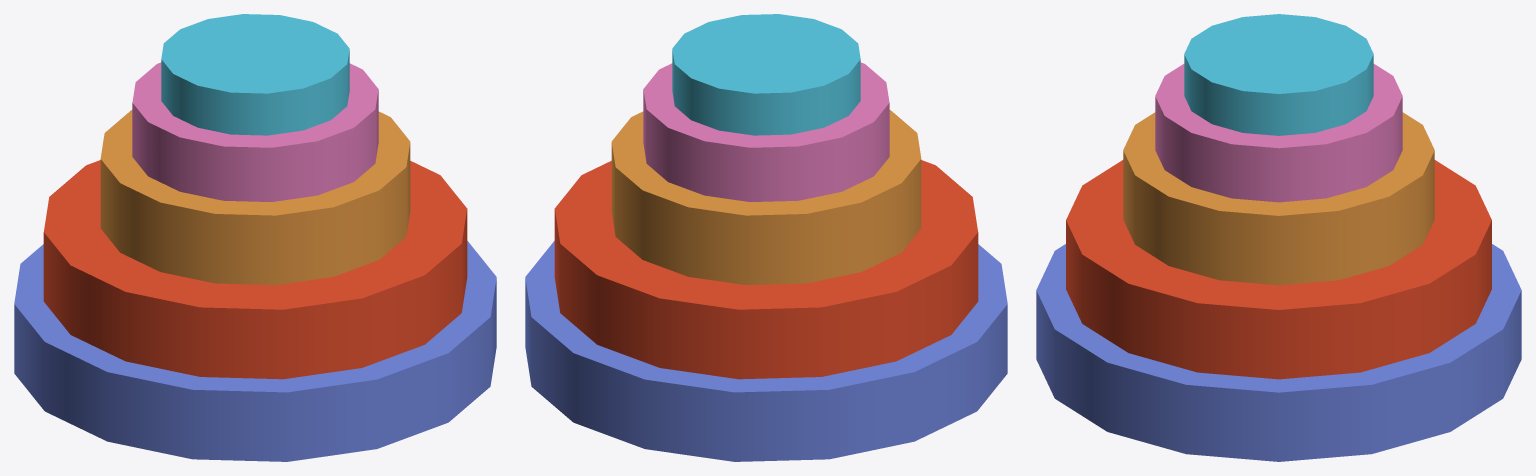
File: Pie.fbx
3 views of the same model, side by side, from view 1: azimuth 30°, elevation 25°; view 2: azimuth 150°, elevation 25°; view 3: azimuth 270°, elevation 25° (orthographic).
Visible parts, largest first — view 1: Cylinder.001, Cylinder, Cylinder.002, Cylinder.004, Cylinder.003; view 2: Cylinder.001, Cylinder, Cylinder.002, Cylinder.004, Cylinder.003; view 3: Cylinder.001, Cylinder, Cylinder.002, Cylinder.004, Cylinder.003.
Boxes of the visible parts, <box> form: Cylinder.001: <box>43,160,467,379</box>; Cylinder: <box>14,241,496,461</box>; Cylinder.002: <box>100,110,410,284</box>; Cylinder.004: <box>161,14,349,135</box>; Cylinder.003: <box>132,62,378,201</box>; Cylinder.001: <box>554,160,978,379</box>; Cylinder: <box>525,241,1007,461</box>; Cylinder.002: <box>611,110,921,284</box>; Cylinder.004: <box>672,14,860,135</box>; Cylinder.003: <box>643,62,889,201</box>; Cylinder.001: <box>1066,160,1491,379</box>; Cylinder: <box>1036,244,1521,461</box>; Cylinder.002: <box>1123,112,1434,285</box>; Cylinder.004: <box>1184,14,1373,135</box>; Cylinder.003: <box>1155,64,1402,202</box>.
Bounding box in the file's own units: 2 × 1.39 × 2.
